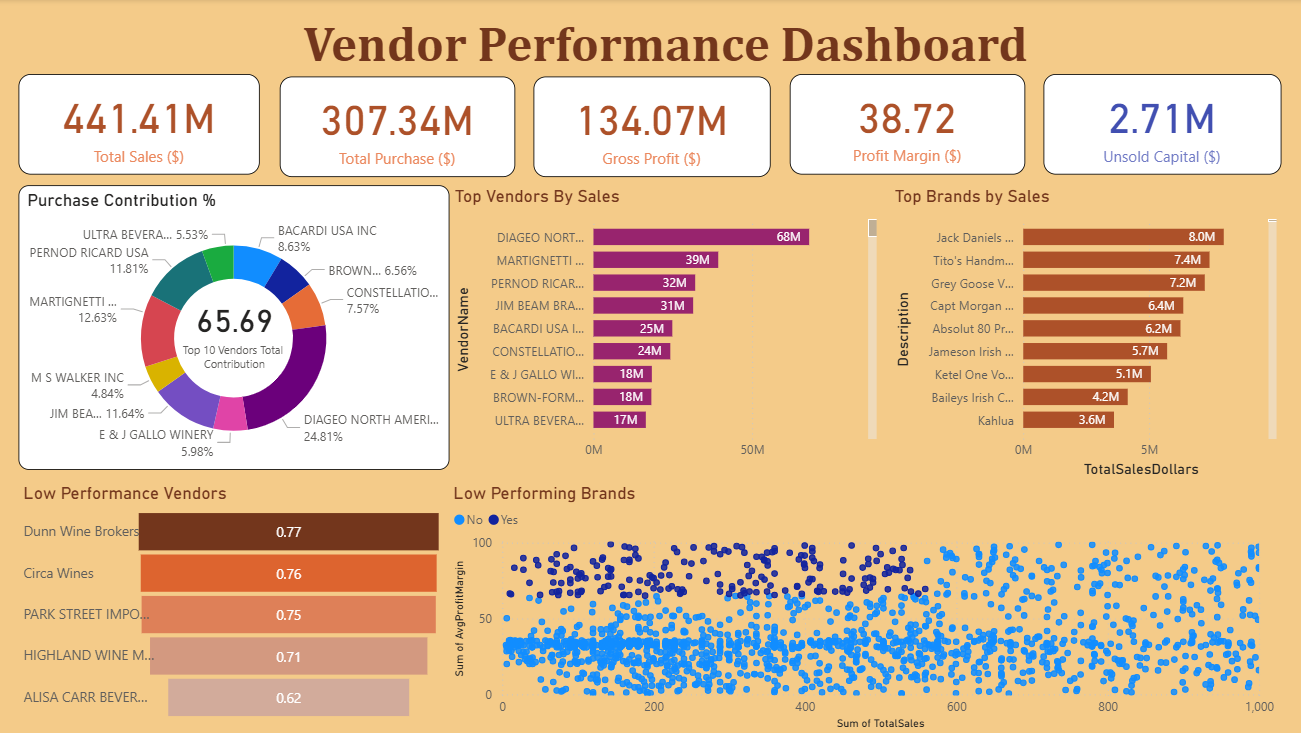

This screenshot's page, from the dashboard's own definition file:
{"tool":"powerbi","page":{"name":"Page 1","canvas":[1280,720],"ordinal":0},"visuals":[{"type":"card","fields":{"Values":["Sum(vendor_sales_summary_clean.TotalSalesDollars)"]},"box":[22.5,73.5,236.2,98.8],"z":1000},{"type":"card","fields":{"Values":["Sum(vendor_sales_summary_clean.TotalPurchaseDollars)"]},"box":[277.2,75.3,230.5,98],"z":2000},{"type":"card","fields":{"Values":["Sum(vendor_sales_summary_clean.UnsoldCapital)"]},"box":[1025,73.5,232.5,98.8],"z":3000},{"type":"card","fields":{"Values":["Avg(vendor_sales_summary_clean.ProfitMargin)"]},"box":[776.7,73.9,230.5,98],"z":4000},{"type":"card","fields":{"Values":["Sum(vendor_sales_summary_clean.GrossProfit)"]},"box":[525.6,75.3,231.9,98],"z":5000},{"type":"textbox","box":[152.3,9.6,1004.5,81],"z":6000},{"type":"pieChart","title":"Purchase Contribution %","fields":{"Category":["PurchaseContribution.VendorName"],"Y":["select","Sum(PurchaseContribution.PurchaseContribution%)"]},"box":[22.5,182.5,421.2,278.8],"z":7000},{"type":"barChart","title":"Top Vendors By Sales","fields":{"Category":["vendor_sales_summary_clean.VendorName"],"Y":["Sum(vendor_sales_summary_clean.TotalSalesDollars)"]},"box":[443.8,182.5,422.5,291.2],"z":8000},{"type":"barChart","title":"Top Brands by Sales","fields":{"Category":["vendor_sales_summary_clean.Description"],"Y":["Sum(vendor_sales_summary_clean.TotalSalesDollars)"]},"box":[873.8,182.5,383.8,291.2],"z":9000},{"type":"funnel","title":"Low Performance Vendors","fields":{"Category":["LowTurnoverVendor.VendorName"],"Y":["Avg(LowTurnoverVendor.AvgStockTurnOver)"]},"box":[22.5,473.8,421.2,237.5],"z":10000},{"type":"scatterChart","title":"Low Performing Brands","fields":{"Category":["BrandPerformance.Description"],"X":["Sum(BrandPerformance.TotalSales)"],"Series":["BrandPerformance.TargetBrand"],"Y":["Sum(BrandPerformance.AvgProfitMargin)"]},"box":[442.7,473.2,813.2,247],"z":11000},{"type":"card","title":"Purchase Contribution %","fields":{"Values":["select","Sum(PurchaseContribution.PurchaseContribution%)"]},"box":[153.8,221.2,158.8,196.2],"z":11500}]}

Visuals, with their boxes in screenshot pixels (x1, y1, x2, y2), scaled from the page's 1280x720 canvas onto the 1301x733 screenshot:
card - Sum(vendor_sales_summary_clean.TotalSalesDollars): [x1=23, y1=75, x2=263, y2=175]
card - Sum(vendor_sales_summary_clean.TotalPurchaseDollars): [x1=282, y1=77, x2=516, y2=176]
card - Sum(vendor_sales_summary_clean.UnsoldCapital): [x1=1042, y1=75, x2=1278, y2=175]
card - Avg(vendor_sales_summary_clean.ProfitMargin): [x1=789, y1=75, x2=1024, y2=175]
card - Sum(vendor_sales_summary_clean.GrossProfit): [x1=534, y1=77, x2=770, y2=176]
textbox: [x1=155, y1=10, x2=1176, y2=92]
"Purchase Contribution %" pieChart: [x1=23, y1=186, x2=451, y2=470]
"Top Vendors By Sales" barChart: [x1=451, y1=186, x2=881, y2=482]
"Top Brands by Sales" barChart: [x1=888, y1=186, x2=1278, y2=482]
"Low Performance Vendors" funnel: [x1=23, y1=482, x2=451, y2=724]
"Low Performing Brands" scatterChart: [x1=450, y1=482, x2=1277, y2=732]
"Purchase Contribution %" card: [x1=156, y1=225, x2=318, y2=425]
